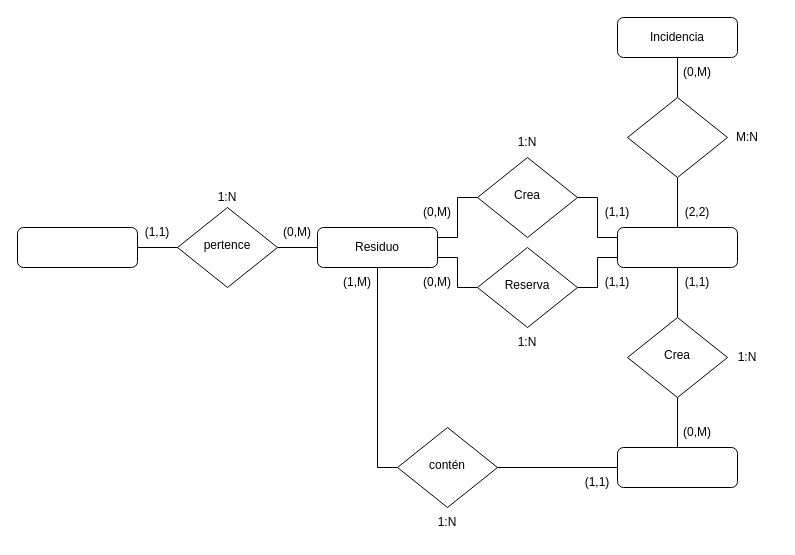
Some shapes in this 795 by 555 pixel diagram are drawn without their labels. The shapes that lost their labels are listed below. From the top down, each one's box as (x1, y1, x2, y2) in pixels, then its label:
(626, 96, 728, 178): ten
(16, 226, 138, 268): Categoria
(616, 226, 738, 268): Usuario
(616, 446, 738, 488): Ruta
